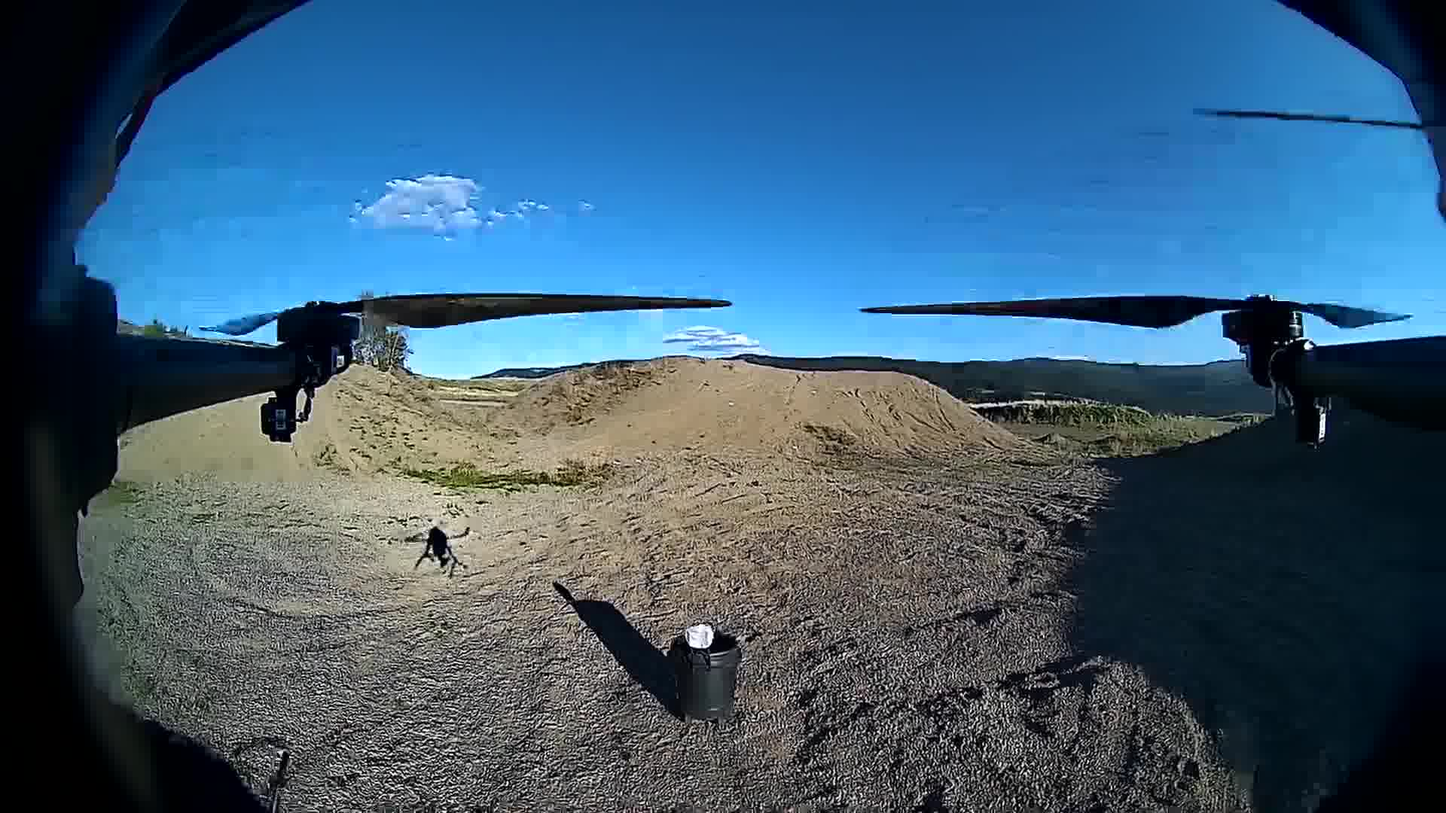Target: (684, 622, 717, 649)
